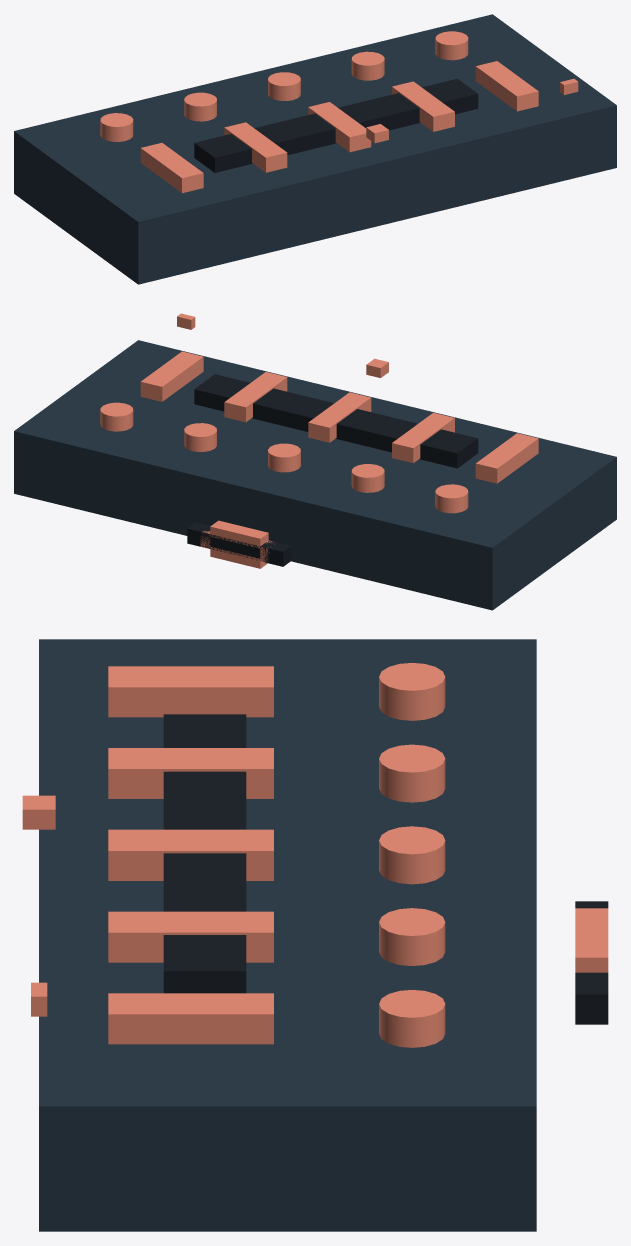
3 views of the same model, one above another, from view 1: azimuth 30°, elevation 25°; view 2: azimuth 150°, elevation 25°; view 3: azimuth 270°, elevation 25° (orthographic). The views are drawn at different scales.
Parts seen in each view (by area): view 1: audio-body, display-surface, slider-0.14, slider--0.14, slider--0.07, slider-0.07, slider-0, button-0.14, button--0.14, button-0.07, button--0.07, button-0; view 2: audio-body, display-surface, usb-port-back, slider--0.14, slider-0.14, slider-0, slider-0.07, slider--0.07, usb-frame-top, button--0.14, button-0.14, button--0.07 (+3 smaller); view 3: audio-body, display-surface, slider-0.14, slider--0.14, slider-0, slider-0.07, slider--0.07, button-0, button--0.14, button-0.07, button-0.14, button--0.07 (+3 smaller).
Boxes of the visible parts, x1=… form: audio-body: x1=14, y1=14, x2=616, y2=284; display-surface: x1=194, y1=78, x2=478, y2=172; slider-0.14: x1=475, y1=61, x2=538, y2=111; slider--0.14: x1=140, y1=143, x2=203, y2=193; slider--0.07: x1=224, y1=122, x2=287, y2=172; slider-0.07: x1=392, y1=81, x2=454, y2=131; slider-0: x1=308, y1=102, x2=371, y2=152; button-0.14: x1=435, y1=31, x2=468, y2=60; button--0.14: x1=100, y1=113, x2=133, y2=141; button-0.07: x1=351, y1=51, x2=384, y2=80; button--0.07: x1=184, y1=92, x2=216, y2=121; button-0: x1=268, y1=72, x2=300, y2=100; audio-body: x1=14, y1=340, x2=616, y2=610; display-surface: x1=194, y1=374, x2=478, y2=468; usb-port-back: x1=187, y1=522, x2=291, y2=566; slider--0.14: x1=475, y1=433, x2=538, y2=483; slider-0.14: x1=140, y1=351, x2=203, y2=401; slider-0: x1=308, y1=392, x2=371, y2=442; slider-0.07: x1=224, y1=372, x2=287, y2=422; slider--0.07: x1=392, y1=412, x2=454, y2=463; usb-frame-top: x1=210, y1=520, x2=268, y2=548; button--0.14: x1=435, y1=484, x2=468, y2=513; button-0.14: x1=100, y1=402, x2=133, y2=431; button--0.07: x1=351, y1=464, x2=384, y2=492; audio-body: x1=39, y1=639, x2=536, y2=1231; display-surface: x1=163, y1=714, x2=246, y2=993; slider-0.14: x1=108, y1=993, x2=273, y2=1044; slider--0.14: x1=108, y1=666, x2=273, y2=717; slider-0: x1=108, y1=829, x2=273, y2=880; slider-0.07: x1=108, y1=911, x2=273, y2=962; slider--0.07: x1=108, y1=748, x2=273, y2=798; button-0: x1=379, y1=826, x2=445, y2=884; button--0.14: x1=379, y1=662, x2=445, y2=720; button-0.07: x1=379, y1=908, x2=445, y2=965; button-0.14: x1=379, y1=990, x2=445, y2=1047; button--0.07: x1=379, y1=744, x2=445, y2=802.
Size of the model in its own units: 0.4 by 0.078 by 0.212.
